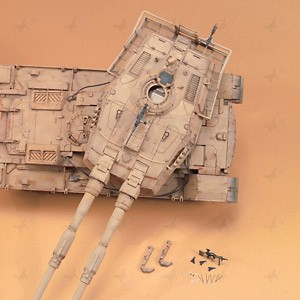Battle Tank: (1, 21, 258, 227)
